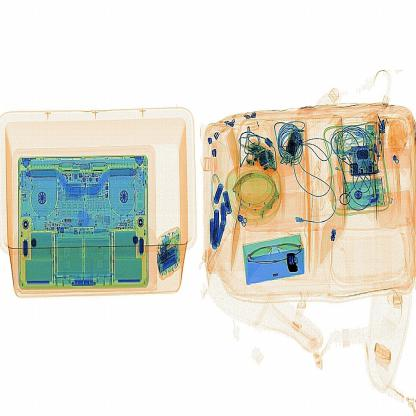pliers: (284, 250, 301, 278)
